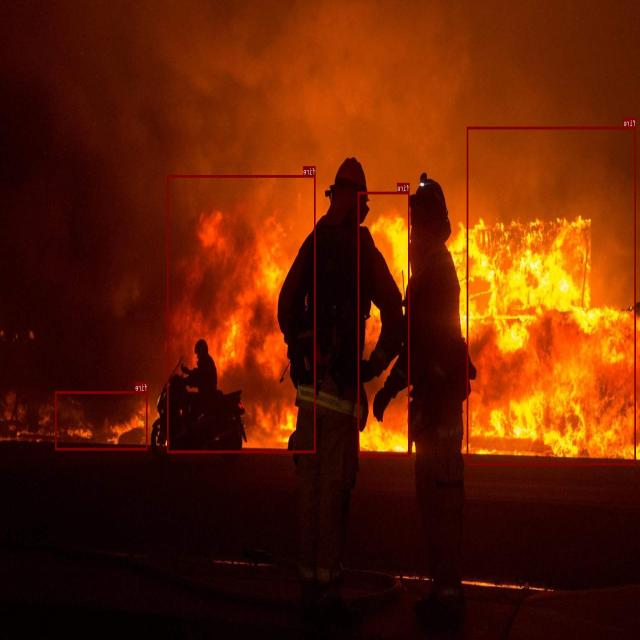fire: (467, 127, 636, 464), (167, 175, 316, 452), (358, 192, 410, 456), (56, 391, 148, 450)
